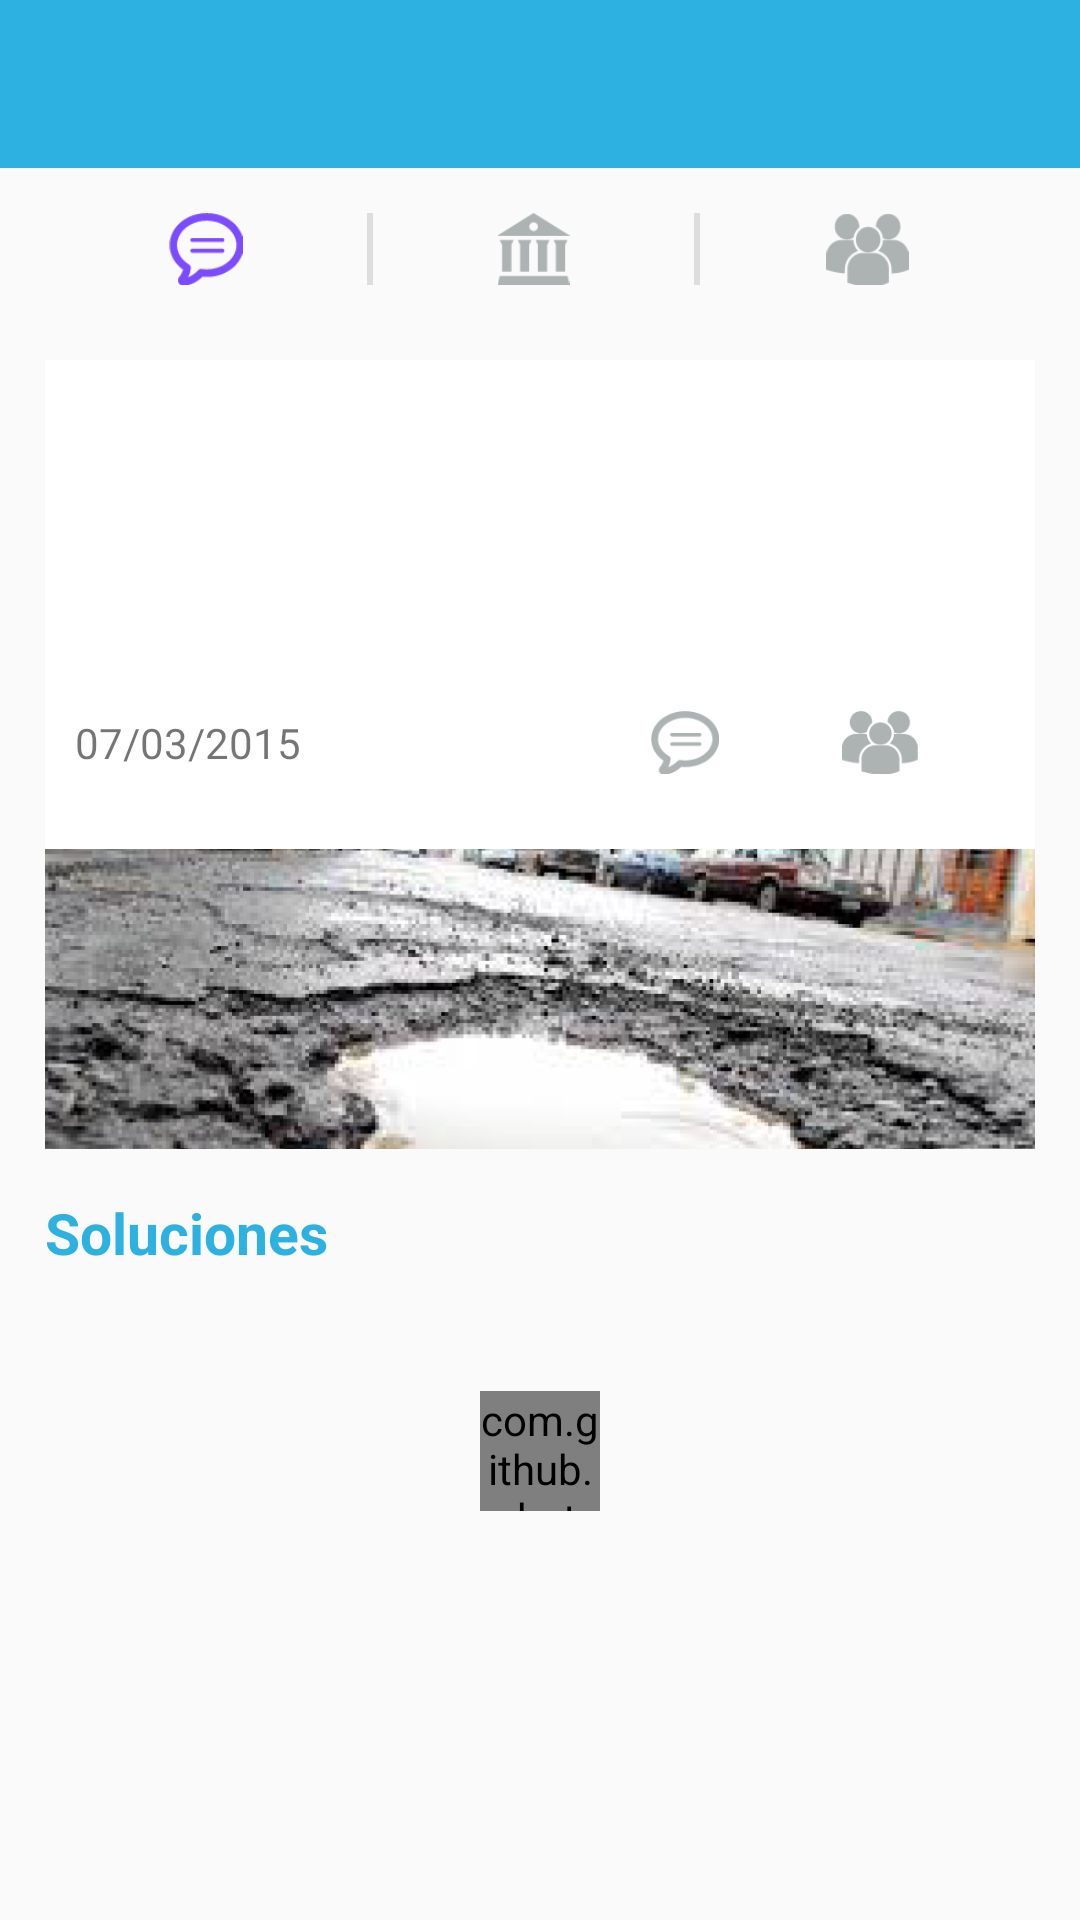

Screen size 1080 x 1920. Icon name, then its center in pixels as point (x, y):
comentaon: point (206, 249)
comentarios: point (685, 742)
gobiernooff: point (534, 249)
match: point (880, 742)
matchoff: point (867, 249)
